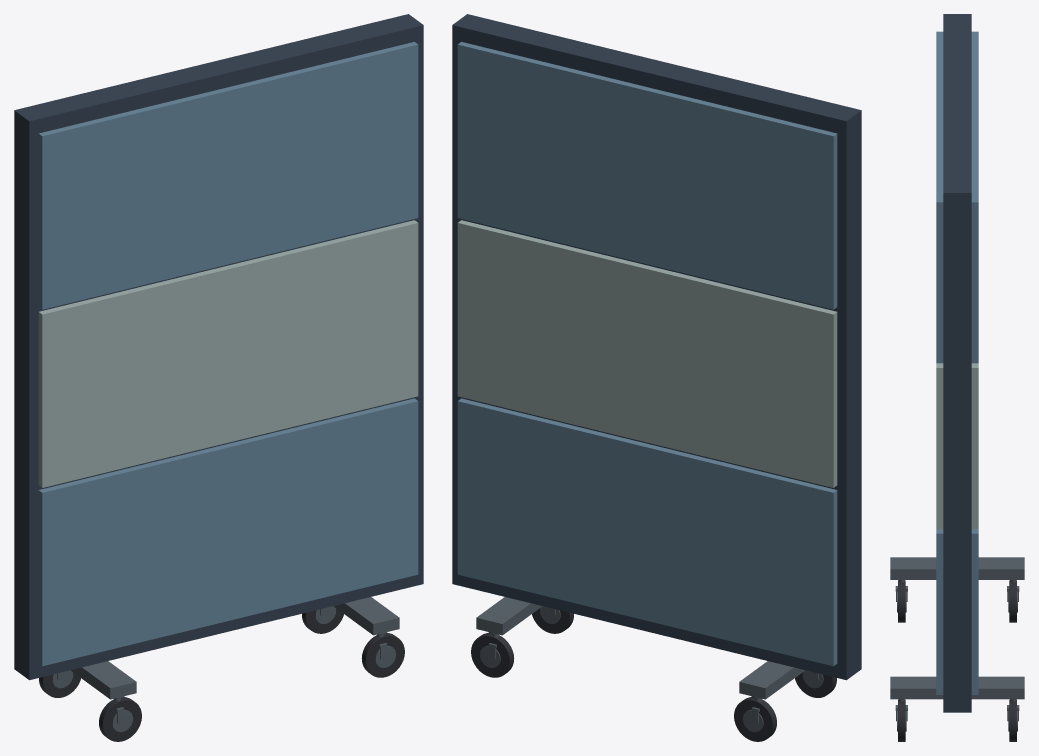
3 views of the same model, side by side, from view 1: azimuth 30°, elevation 25°; view 2: azimuth 150°, elevation 25°; view 3: azimuth 270°, elevation 25° (orthographic). The views are drawn at different scales.
Visible parts, largest first — view 1: caster-cloth-front-2, caster-cloth-front-1, caster-cloth-front-3, caster-core, caster-carrier-right, caster-carrier-left, wheel-right-front, wheel-left-front; view 2: caster-cloth-rear-2, caster-cloth-rear-1, caster-cloth-rear-3, caster-core, caster-carrier-right, caster-carrier-left, wheel-right-rear, wheel-left-rear; view 3: caster-core, caster-cloth-rear-3, caster-cloth-front-3, caster-carrier-right, caster-carrier-left, caster-cloth-rear-2, caster-cloth-front-2, caster-cloth-rear-1, caster-cloth-front-1, wheel-left-rear, wheel-left-front, wheel-right-rear (+1 smaller).
Part boxes in pixels (x1=…): caster-cloth-front-2: x1=38, y1=220, x2=418, y2=487; caster-cloth-front-1: x1=38, y1=398, x2=418, y2=666; caster-cloth-front-3: x1=38, y1=42, x2=418, y2=309; caster-core: x1=14, y1=14, x2=423, y2=680; caster-carrier-right: x1=333, y1=597, x2=399, y2=635; caster-carrier-left: x1=71, y1=661, x2=136, y2=699; wheel-right-front: x1=361, y1=633, x2=404, y2=677; wheel-left-front: x1=99, y1=697, x2=141, y2=741; caster-cloth-rear-2: x1=457, y1=220, x2=837, y2=487; caster-cloth-rear-1: x1=457, y1=398, x2=837, y2=666; caster-cloth-rear-3: x1=457, y1=42, x2=837, y2=309; caster-core: x1=452, y1=14, x2=861, y2=680; caster-carrier-right: x1=476, y1=597, x2=542, y2=635; caster-carrier-left: x1=739, y1=661, x2=804, y2=699; wheel-right-rear: x1=471, y1=633, x2=514, y2=677; wheel-left-rear: x1=734, y1=697, x2=776, y2=741; caster-core: x1=943, y1=14, x2=971, y2=712; caster-cloth-rear-3: x1=971, y1=31, x2=978, y2=363; caster-cloth-front-3: x1=936, y1=31, x2=943, y2=363; caster-carrier-right: x1=890, y1=676, x2=1024, y2=699; caster-carrier-left: x1=890, y1=557, x2=1024, y2=579; caster-cloth-rear-2: x1=971, y1=363, x2=978, y2=529; caster-cloth-front-2: x1=936, y1=363, x2=943, y2=529; caster-cloth-rear-1: x1=971, y1=529, x2=978, y2=694; caster-cloth-front-1: x1=936, y1=529, x2=943, y2=694; wheel-left-rear: x1=1009, y1=580, x2=1016, y2=622; wheel-left-front: x1=898, y1=580, x2=905, y2=622; wheel-right-rear: x1=1009, y1=699, x2=1016, y2=741.
Bounding box in the file's own units: 1.2 × 1.8 × 0.38.
